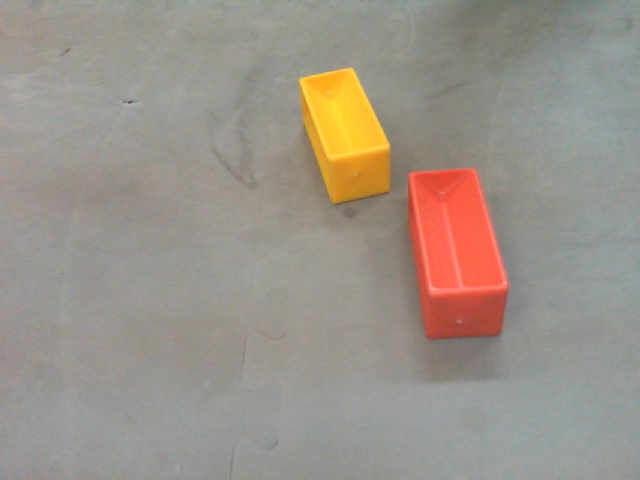RedSample: (407, 168, 513, 344)
YellowSample: (298, 70, 391, 200)
